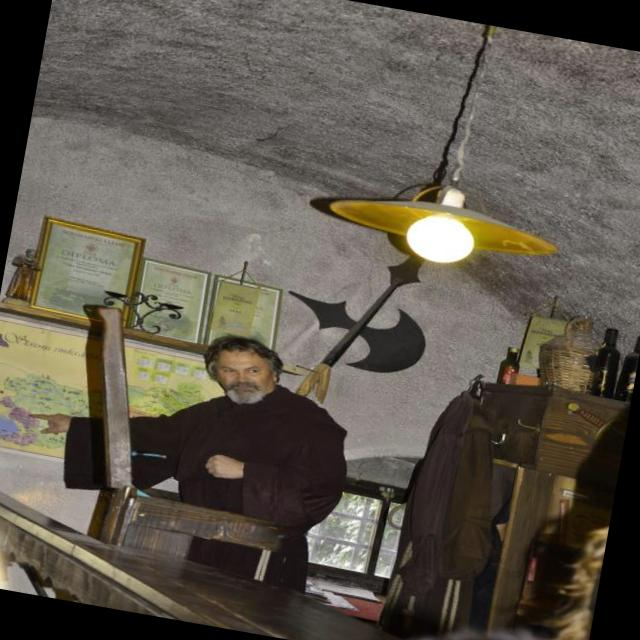Axe: (290, 255, 425, 401)
